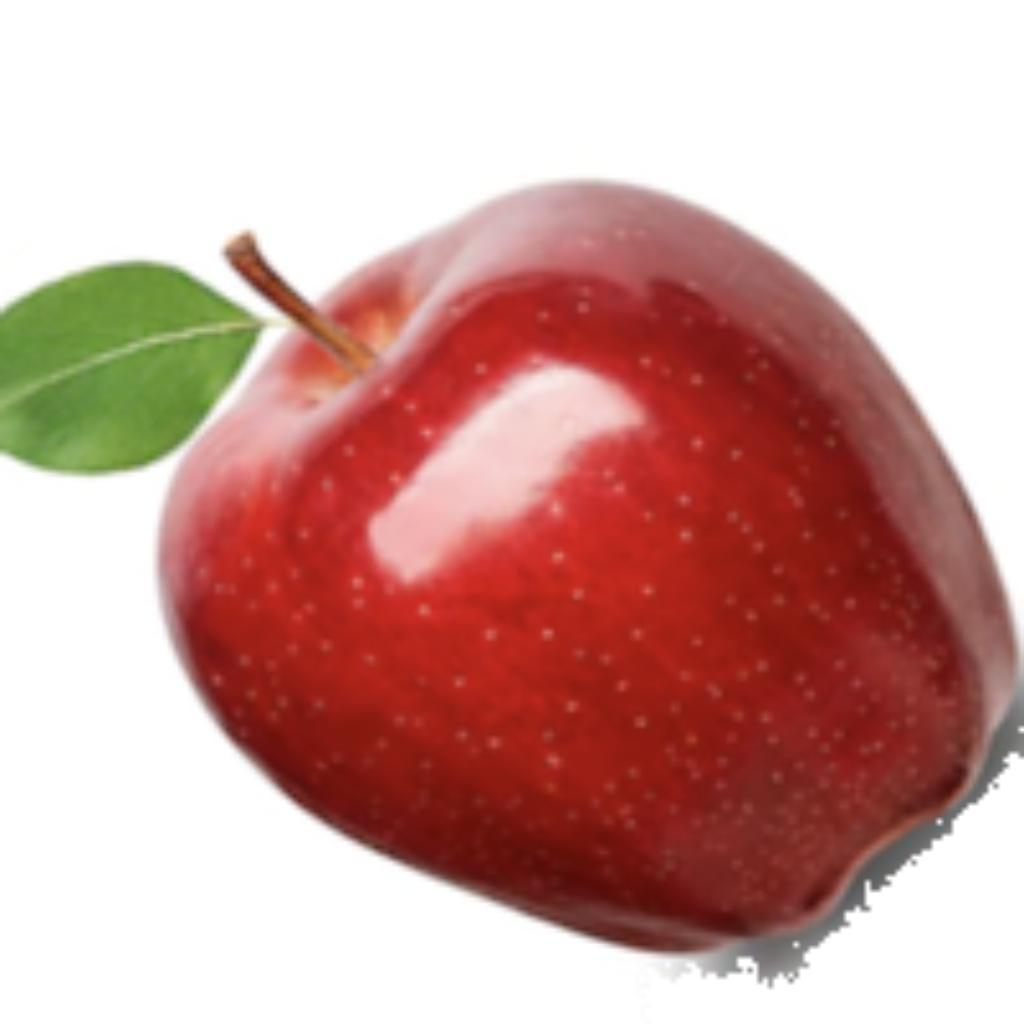apple: (0, 169, 1019, 988)
